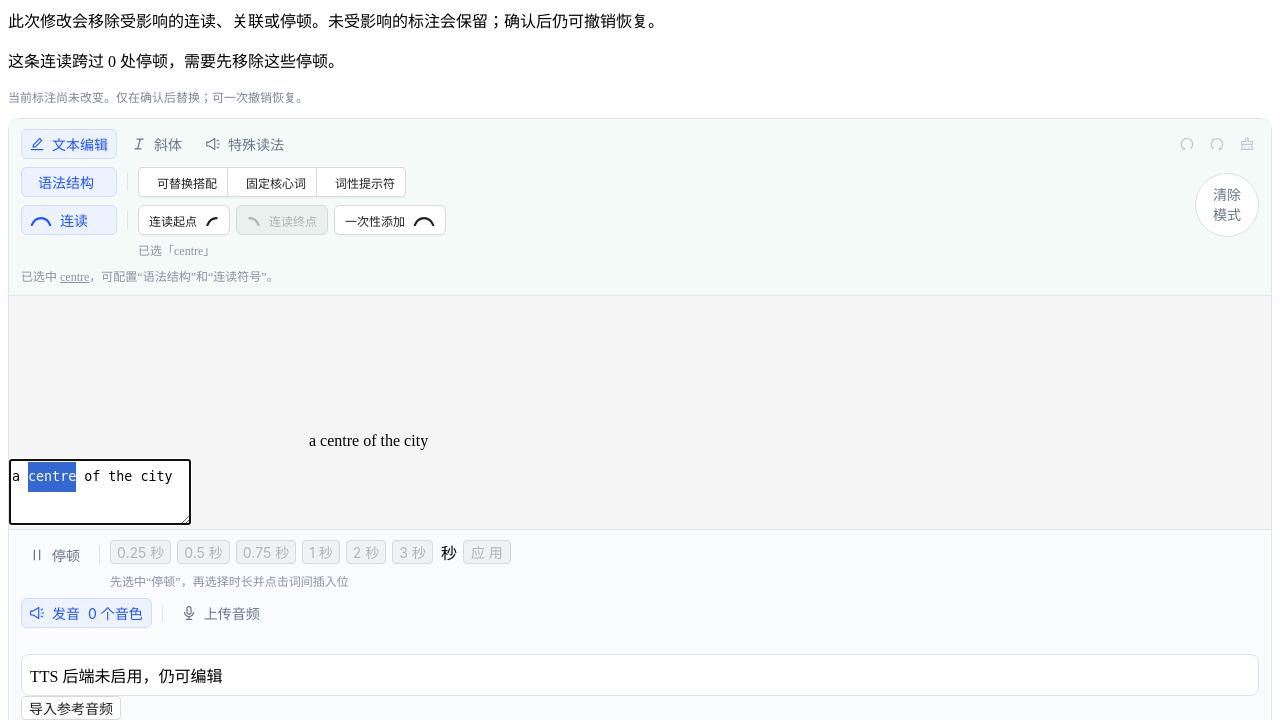
Scenario: VoiceEditor 文本与落盘 › 撤销把文本和标注一起回退，两者不会各退各的
This screenshot has width=1280, height=720.
Click the button "固定核心词" at (272, 182), box left=227, top=167, right=317, bottom=197
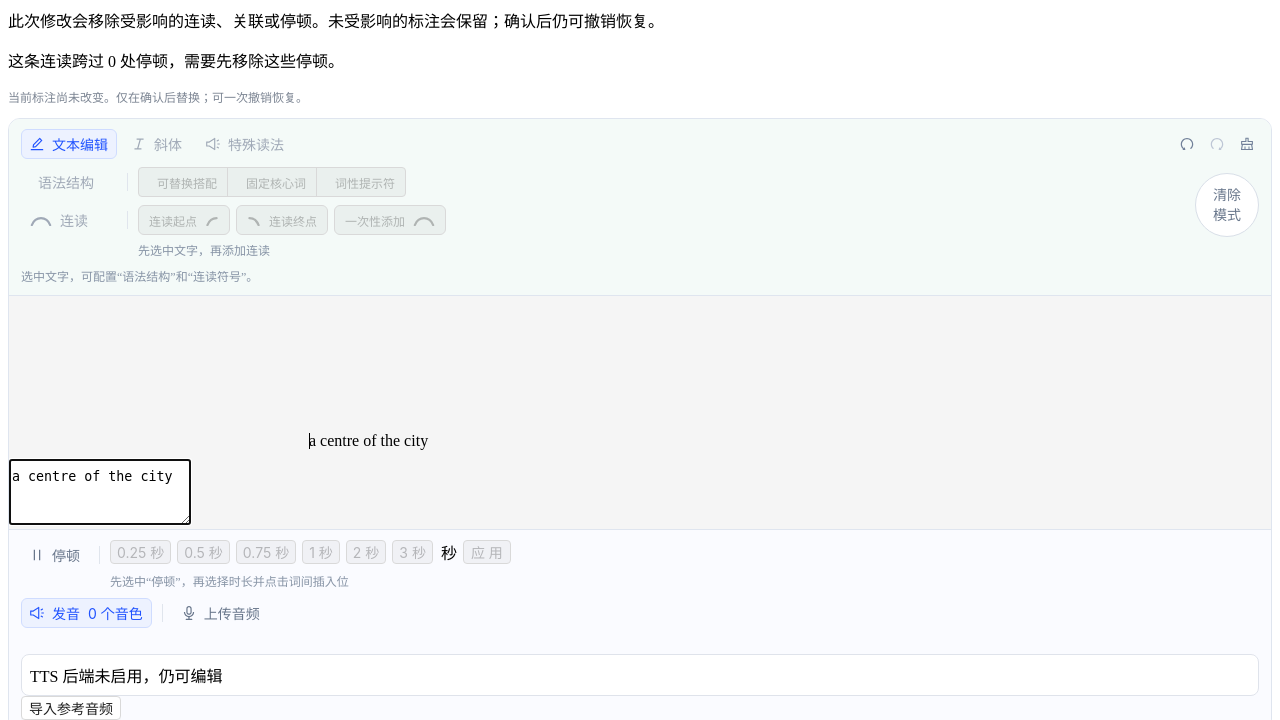
Replace the text in the text box named "语音编辑器" with "a middle of the city" at (100, 492), box left=9, top=459, right=191, bottom=525
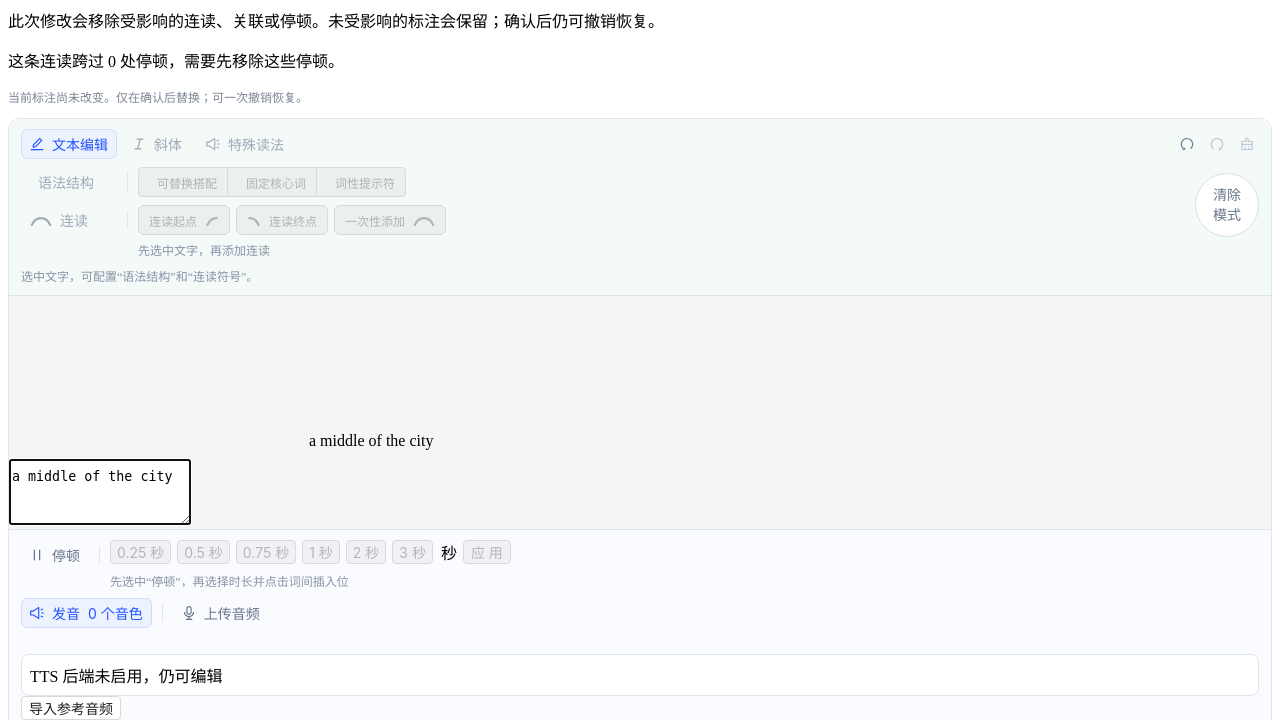
Click the button named "上一步" at (1187, 144), box left=1173, top=129, right=1201, bottom=159
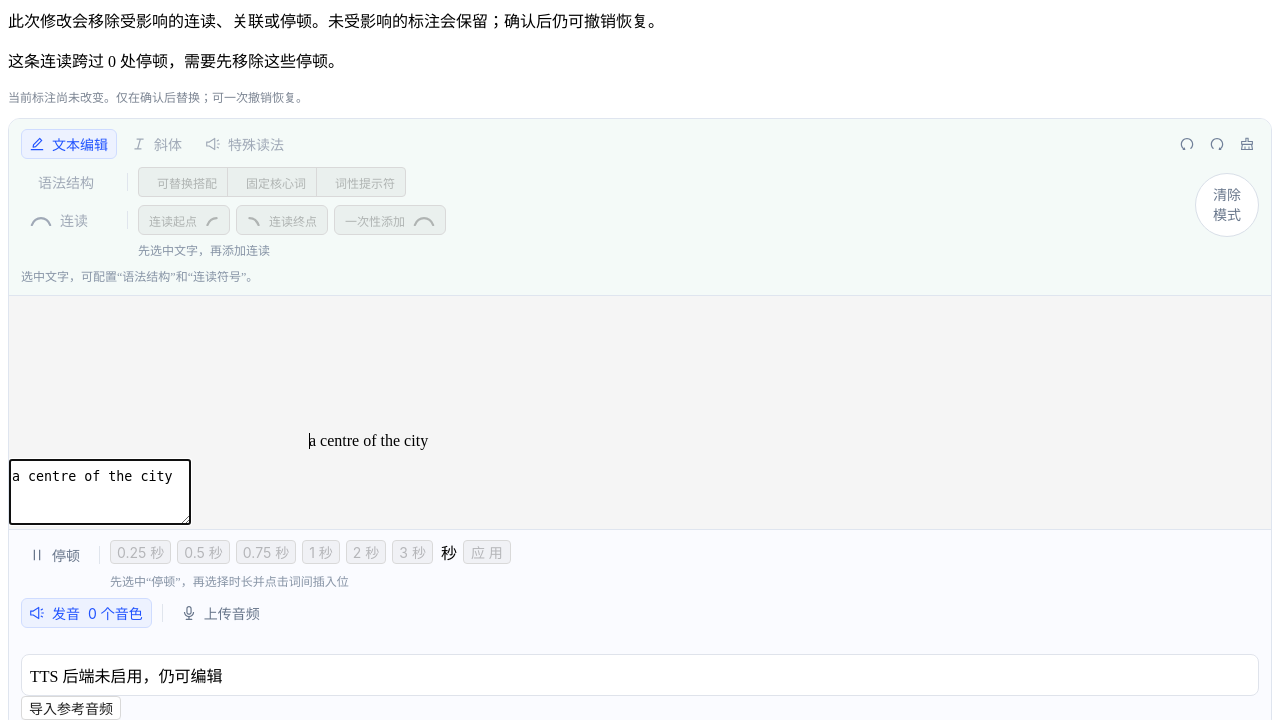
expect the text box named "语音编辑器" holds "a centre of the city": met, box left=9, top=459, right=191, bottom=525
